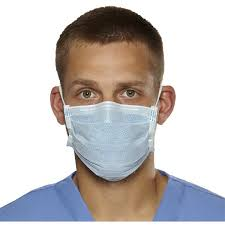mask: (64, 100, 158, 172)
